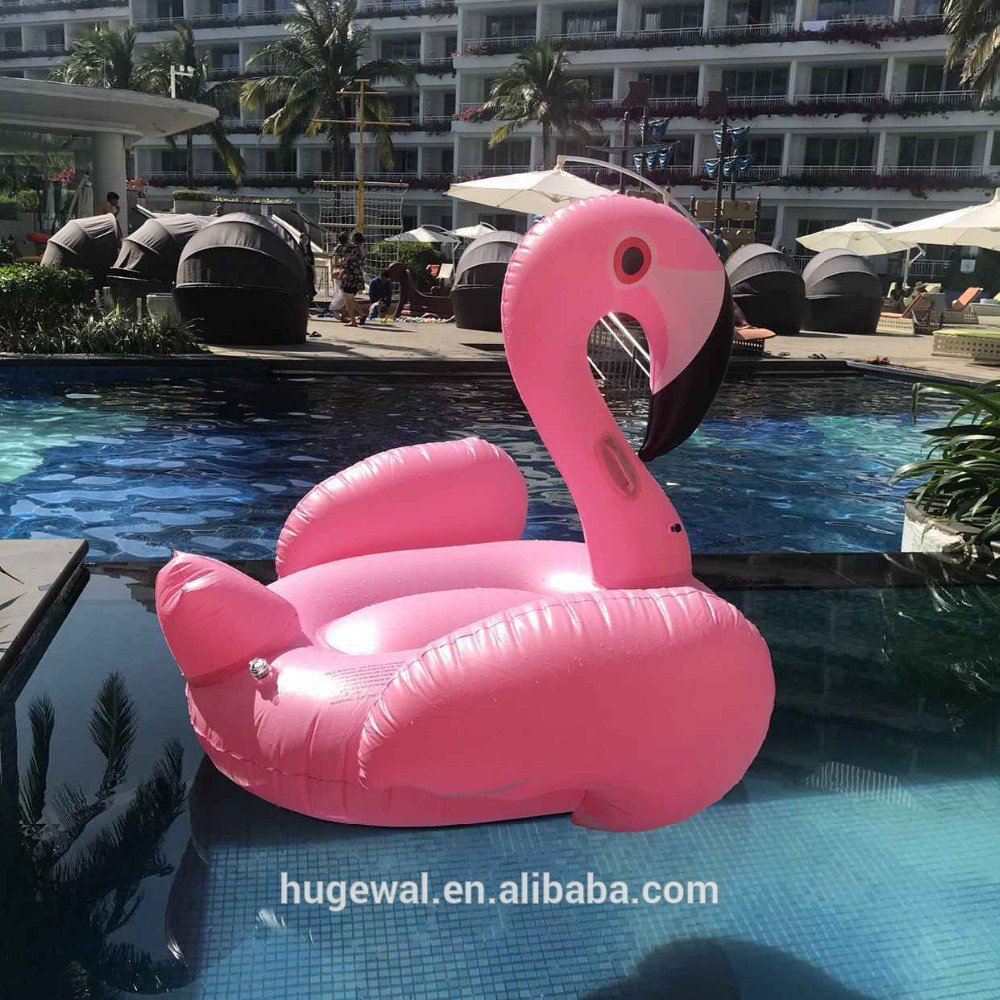Flamingo: (149, 195, 781, 839)
